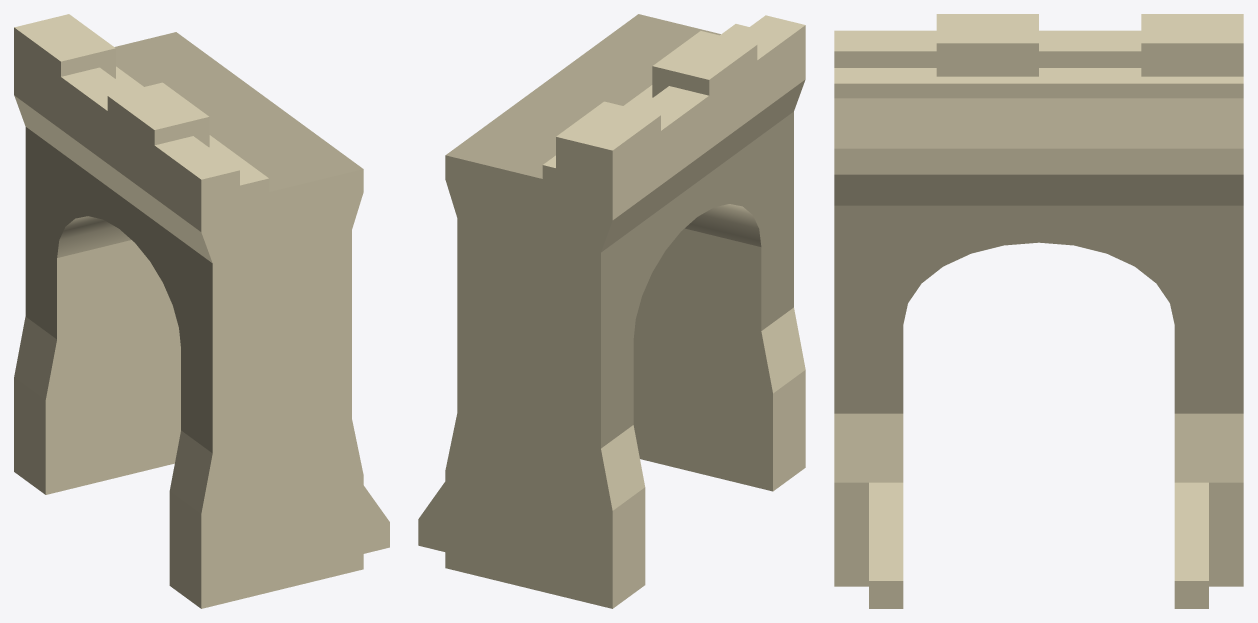
File: wallNarrowGate.fbx
The picture shows the model from 3 angles, left to right: view 1: azimuth 30°, elevation 25°; view 2: azimuth 150°, elevation 25°; view 3: azimuth 270°, elevation 25°; orthographic projection. The views are drawn at different scales.
Visible parts, largest first — view 1: wallNarrowGate; view 2: wallNarrowGate; view 3: wallNarrowGate.
Boxes of the visible parts, x1,y1,x2,y2 form: wallNarrowGate: (14, 14, 389, 608); wallNarrowGate: (418, 14, 805, 608); wallNarrowGate: (834, 14, 1243, 608).
Bounding box in the file's own units: 6.3 × 13.1 × 10.
